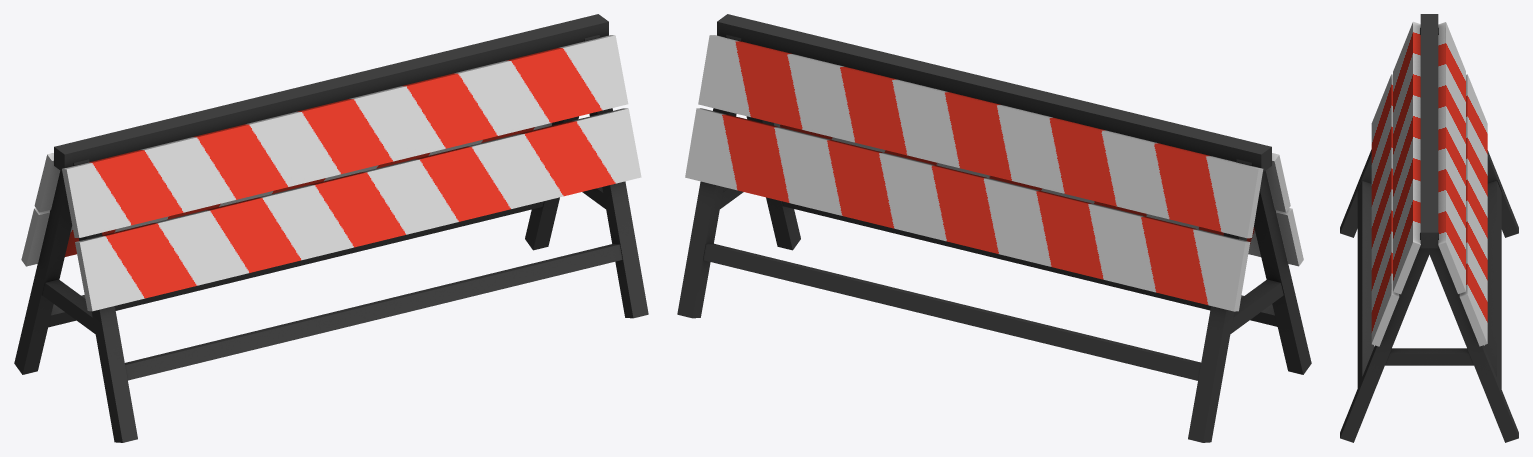
File: active.Road-Block.glb
3 views of the same model, side by side, from view 1: azimuth 30°, elevation 25°; view 2: azimuth 150°, elevation 25°; view 3: azimuth 270°, elevation 25° (orthographic). The views are drawn at different scales.
Visible parts, largest first — view 1: active.Road Block; view 2: active.Road Block; view 3: active.Road Block.
Boxes of the visible parts, <box> form: active.Road Block: <box>14,14,648,442</box>; active.Road Block: <box>677,14,1311,442</box>; active.Road Block: <box>1340,14,1518,442</box>.
Size of the model in its own units: 2.15 by 0.9742 by 0.7368.
Materials: 1 (1 with a texture image).
